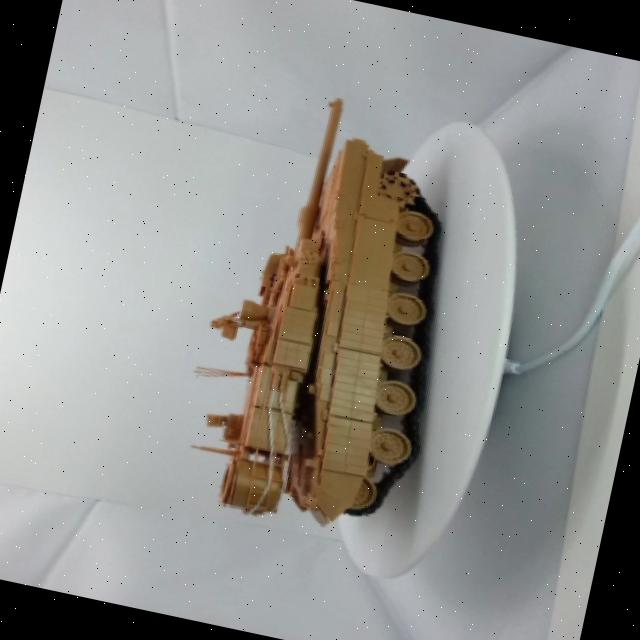korea tank: (148, 49, 502, 566)
